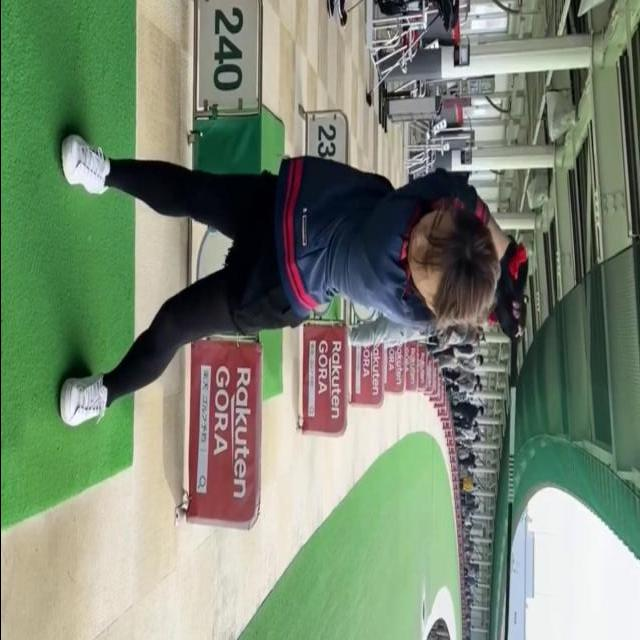golf club-handle: (502, 339, 519, 640)
